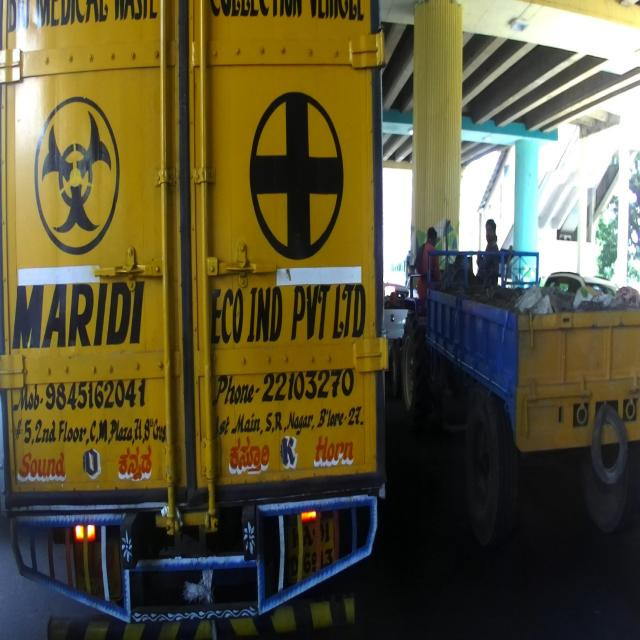truck: (0, 0, 387, 639)
